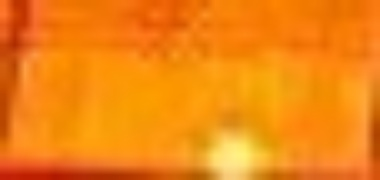Hotspot: (201, 123, 272, 180)
